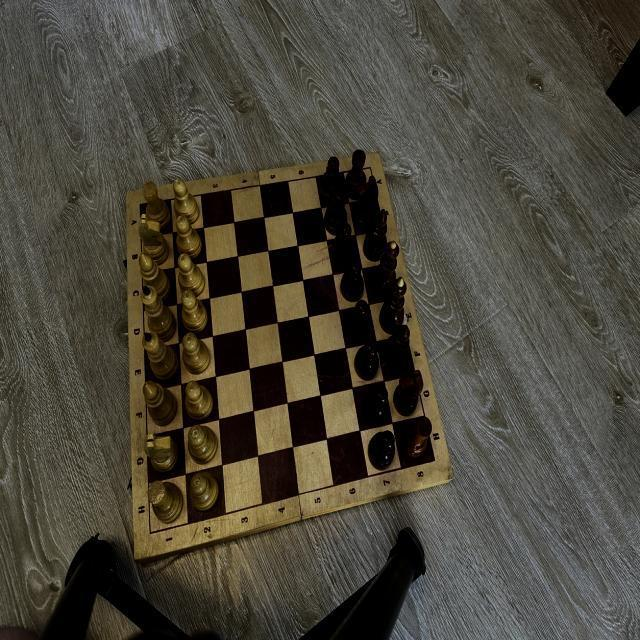chess-table-corners: (146, 527, 154, 538), (431, 456, 438, 466), (367, 164, 374, 172), (138, 202, 142, 207)
